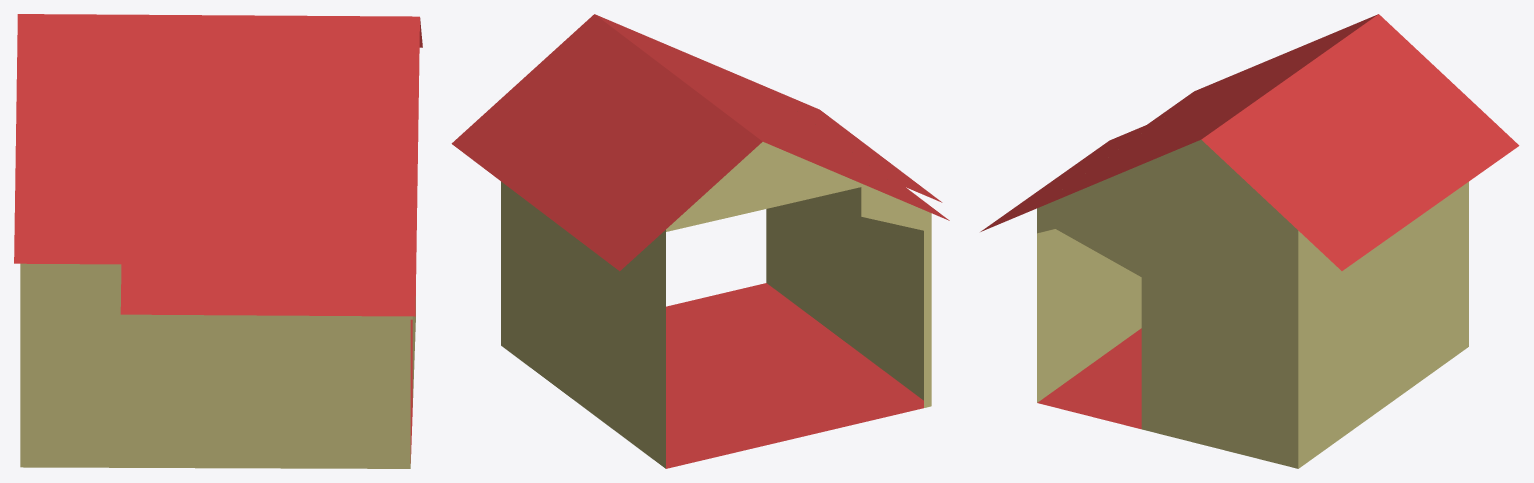
3 views of the same model, side by side, from view 1: azimuth 30°, elevation 25°; view 2: azimuth 150°, elevation 25°; view 3: azimuth 270°, elevation 25° (orthographic). The views are drawn at different scales.
Bounding box in the file's own units: 23.83 × 26.18 × 16.43.
